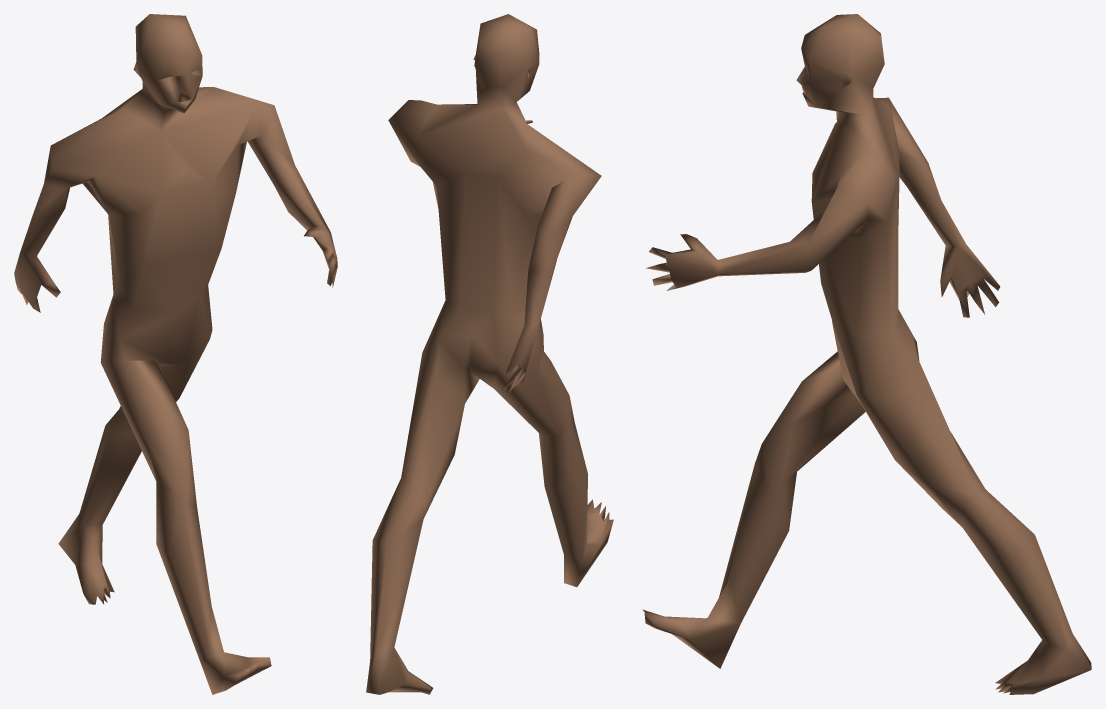
The model's file is obs_000015.obj.
The picture shows the model from 3 angles, left to right: view 1: azimuth 30°, elevation 25°; view 2: azimuth 150°, elevation 25°; view 3: azimuth 270°, elevation 25°; orthographic projection. The views are drawn at different scales.
Visible parts, largest first — view 1: 1-base_1-base.008; view 2: 1-base_1-base.008; view 3: 1-base_1-base.008.
Boxes of the visible parts, bbox=[...] form: 1-base_1-base.008: bbox=[14, 14, 337, 694]; 1-base_1-base.008: bbox=[366, 14, 613, 694]; 1-base_1-base.008: bbox=[642, 14, 1091, 694].
Bounding box in the file's own units: 0.451 × 1.26 × 0.7693.
